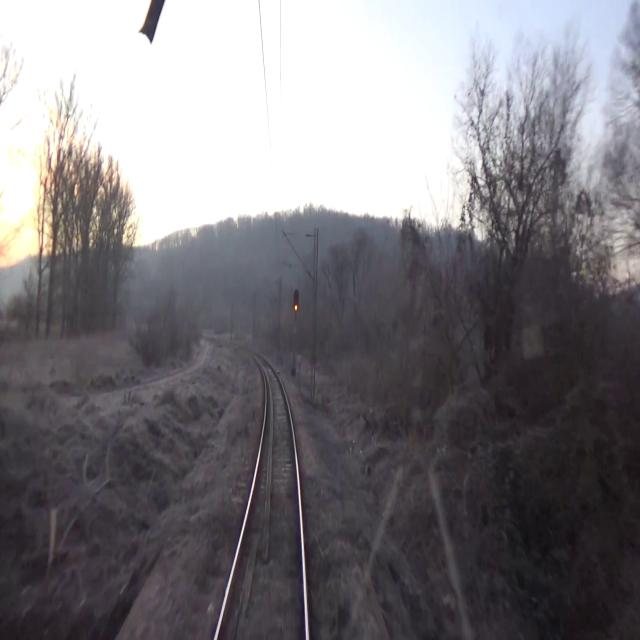rail-track: (218, 355, 304, 639)
